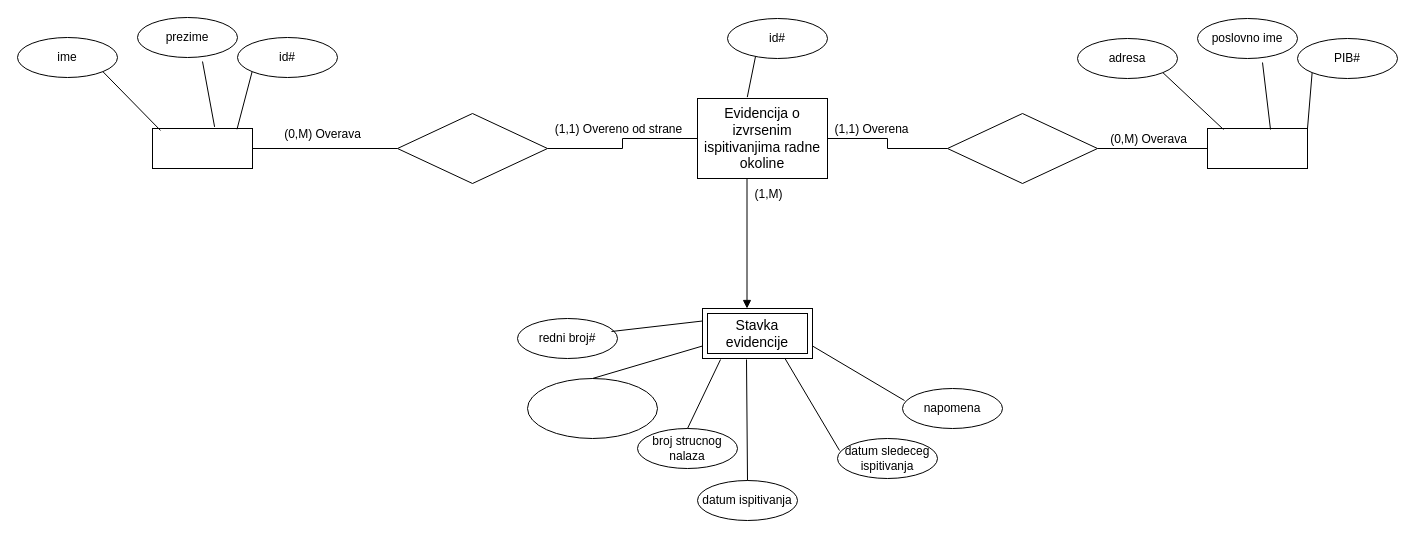
Image size: 1415x538. Some labels were removed from this diagram. Here are the shapes that lost their labels. From the top down, the box of each, then its label:
(152, 128, 252, 168): Lice za bezbednost
(396, 112, 548, 184): Vodjenje evidencije
(946, 112, 1098, 184): overavanje evidencije
(1206, 128, 1308, 168): Poslodavac
(526, 378, 658, 438): ispitivani parametri uslova radne okoline
